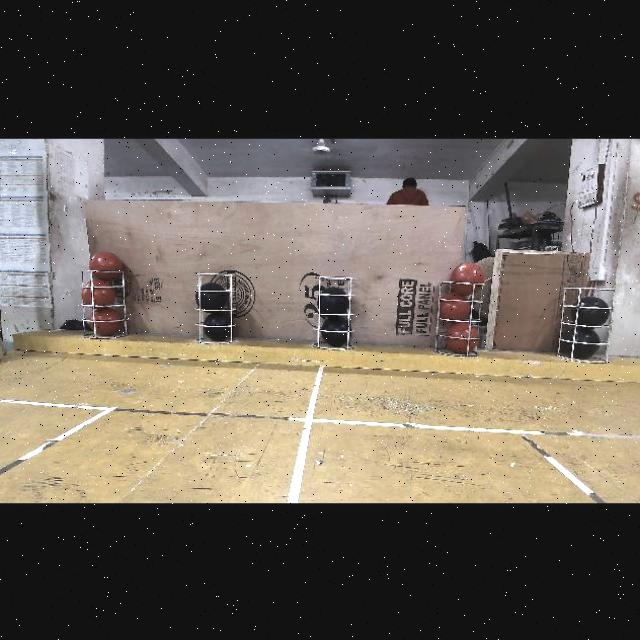P: (566, 327, 602, 358), (574, 297, 608, 325), (322, 318, 352, 346), (202, 312, 232, 340), (194, 285, 226, 311), (318, 289, 348, 315)
R: (450, 263, 485, 296), (448, 321, 479, 353), (89, 251, 122, 281), (439, 294, 471, 322), (82, 282, 116, 306), (92, 308, 118, 336)
S: (559, 282, 615, 362), (434, 279, 484, 359), (78, 268, 132, 338), (192, 270, 238, 344), (314, 272, 356, 346)
